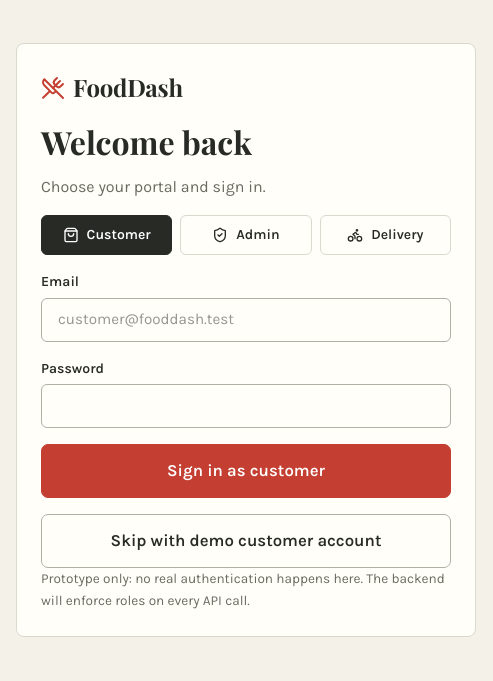
Scenario: route protection › blocks a customer from the admin and delivery portals
Click the button "Skip with demo customer account" at (246,541), box [41,514,451,568]
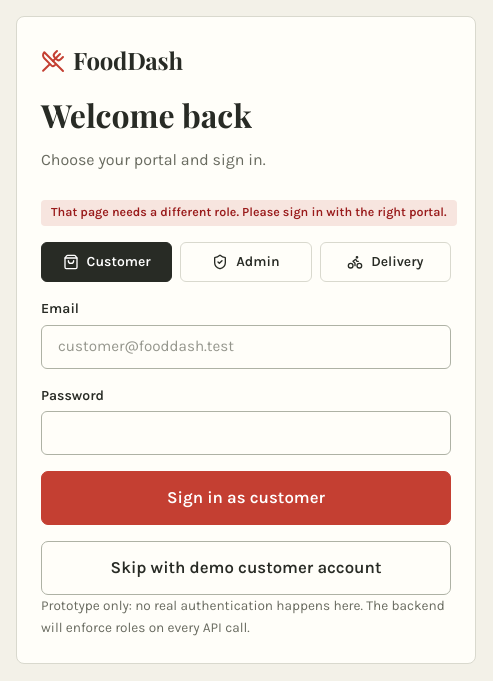
expect the heading "Welcome back" is shown: met, box [41,93,252,136]
expect the message shows "different role": met, box [51,205,447,219]
